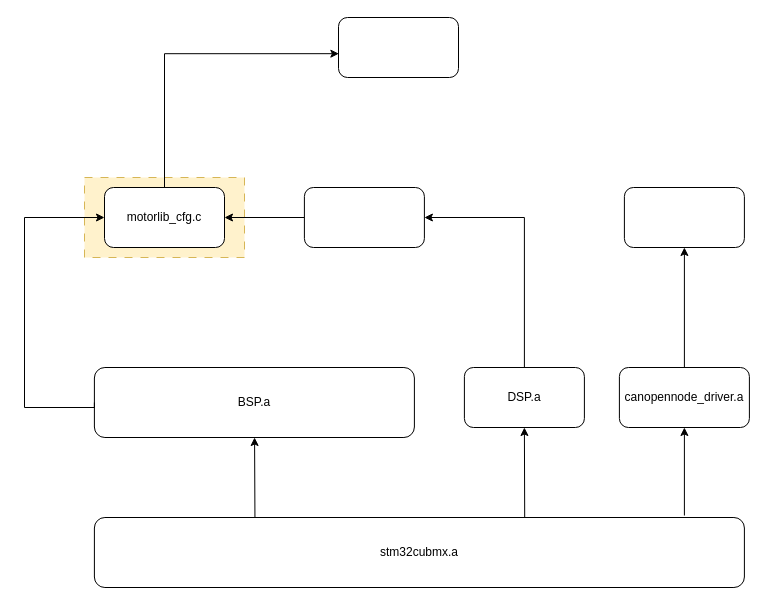
Image size: 767x605. Some labels were removed from this diagram. Each missing label, with the box of its shape:
canopennode.a: (623, 186, 744, 248)
main.c: (338, 16, 458, 78)
motorlib.a: (303, 186, 424, 248)
